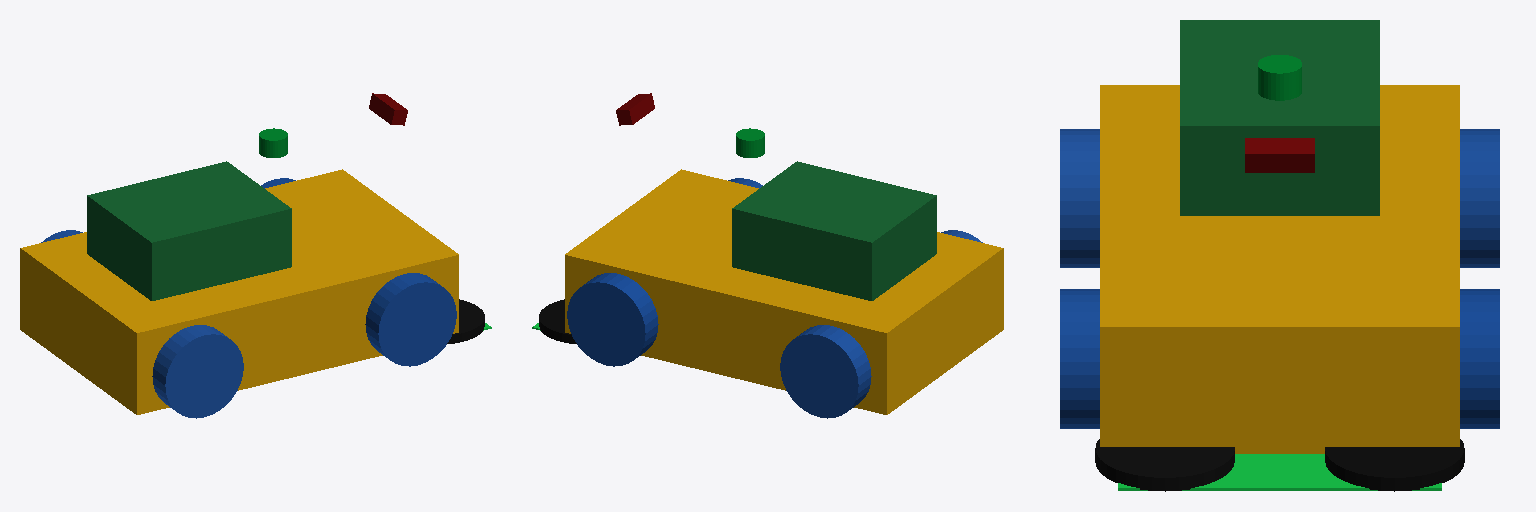
robot.urdf — sanitation_vehicle:
<?xml version="1.0" ?>
<!-- =================================================================================== -->
<!-- |    This document was autogenerated by xacro from /runtime/install/sanitation_vehicle_description/share/sanitation_vehicle_description/urdf/sanitation_vehicle.urdf.xacro | -->
<!-- |    EDITING THIS FILE BY HAND IS NOT RECOMMENDED                                 | -->
<!-- =================================================================================== -->
<robot name="sanitation_vehicle">
  <!-- Local primitive chassis avoids the upstream Gazebo-classic visual
       override colliding with URDF materials in Ogre2 / Gazebo Harmonic. -->
  <link name="base_footprint"/>
  <link name="base_link">
    <visual>
      <geometry>
        <box size="1.15 0.72 0.28"/>
      </geometry>
      <material name="sanitation_chassis_yellow">
        <color rgba="0.84 0.63 0.05 1.0"/>
      </material>
    </visual>
    <collision>
      <geometry>
        <box size="1.15 0.72 0.28"/>
      </geometry>
    </collision>
    <inertial>
      <mass value="80.0"/>
      <inertia ixx="3.978666666666667" ixy="0" ixz="0" iyy="9.339333333333332" iyz="0" izz="12.272666666666666"/>
    </inertial>
  </link>
  <joint name="base_to_footprint" type="fixed">
    <parent link="base_footprint"/>
    <child link="base_link"/>
    <origin rpy="0 0 0" xyz="0 0 0.16"/>
  </joint>
  <link name="front_left_wheel_link">
    <visual>
      <origin rpy="1.5707963267948966 0 0"/>
      <geometry>
        <cylinder length="0.08" radius="0.14"/>
      </geometry>
      <material name="front_left_wheel_material">
        <color rgba="0.12 0.32 0.62 1.0"/>
      </material>
    </visual>
    <collision>
      <origin rpy="1.5707963267948966 0 0"/>
      <geometry>
        <cylinder length="0.08" radius="0.14"/>
      </geometry>
    </collision>
    <inertial>
      <mass value="3.0"/>
      <inertia ixx="0.016300000000000002" ixy="0" ixz="0" iyy="0.029400000000000003" iyz="0" izz="0.016300000000000002"/>
    </inertial>
  </link>
  <joint name="front_left_wheel_joint" type="continuous">
    <axis xyz="0 1 0"/>
    <parent link="base_link"/>
    <child link="front_left_wheel_link"/>
    <origin rpy="0 0 0" xyz="0.38 0.4 -0.02"/>
  </joint>
  <gazebo reference="front_left_wheel_link">
    <mu1>1.0</mu1>
    <mu2>1.0</mu2>
  </gazebo>
  <link name="front_right_wheel_link">
    <visual>
      <origin rpy="1.5707963267948966 0 0"/>
      <geometry>
        <cylinder length="0.08" radius="0.14"/>
      </geometry>
      <material name="front_right_wheel_material">
        <color rgba="0.13 0.33 0.63 1.0"/>
      </material>
    </visual>
    <collision>
      <origin rpy="1.5707963267948966 0 0"/>
      <geometry>
        <cylinder length="0.08" radius="0.14"/>
      </geometry>
    </collision>
    <inertial>
      <mass value="3.0"/>
      <inertia ixx="0.016300000000000002" ixy="0" ixz="0" iyy="0.029400000000000003" iyz="0" izz="0.016300000000000002"/>
    </inertial>
  </link>
  <joint name="front_right_wheel_joint" type="continuous">
    <axis xyz="0 1 0"/>
    <parent link="base_link"/>
    <child link="front_right_wheel_link"/>
    <origin rpy="0 0 0" xyz="0.38 -0.4 -0.02"/>
  </joint>
  <gazebo reference="front_right_wheel_link">
    <mu1>1.0</mu1>
    <mu2>1.0</mu2>
  </gazebo>
  <link name="rear_left_wheel_link">
    <visual>
      <origin rpy="1.5707963267948966 0 0"/>
      <geometry>
        <cylinder length="0.08" radius="0.14"/>
      </geometry>
      <material name="rear_left_wheel_material">
        <color rgba="0.14 0.34 0.64 1.0"/>
      </material>
    </visual>
    <collision>
      <origin rpy="1.5707963267948966 0 0"/>
      <geometry>
        <cylinder length="0.08" radius="0.14"/>
      </geometry>
    </collision>
    <inertial>
      <mass value="3.0"/>
      <inertia ixx="0.016300000000000002" ixy="0" ixz="0" iyy="0.029400000000000003" iyz="0" izz="0.016300000000000002"/>
    </inertial>
  </link>
  <joint name="rear_left_wheel_joint" type="continuous">
    <axis xyz="0 1 0"/>
    <parent link="base_link"/>
    <child link="rear_left_wheel_link"/>
    <origin rpy="0 0 0" xyz="-0.38 0.4 -0.02"/>
  </joint>
  <gazebo reference="rear_left_wheel_link">
    <mu1>1.0</mu1>
    <mu2>1.0</mu2>
  </gazebo>
  <link name="rear_right_wheel_link">
    <visual>
      <origin rpy="1.5707963267948966 0 0"/>
      <geometry>
        <cylinder length="0.08" radius="0.14"/>
      </geometry>
      <material name="rear_right_wheel_material">
        <color rgba="0.15 0.35 0.65 1.0"/>
      </material>
    </visual>
    <collision>
      <origin rpy="1.5707963267948966 0 0"/>
      <geometry>
        <cylinder length="0.08" radius="0.14"/>
      </geometry>
    </collision>
    <inertial>
      <mass value="3.0"/>
      <inertia ixx="0.016300000000000002" ixy="0" ixz="0" iyy="0.029400000000000003" iyz="0" izz="0.016300000000000002"/>
    </inertial>
  </link>
  <joint name="rear_right_wheel_joint" type="continuous">
    <axis xyz="0 1 0"/>
    <parent link="base_link"/>
    <child link="rear_right_wheel_link"/>
    <origin rpy="0 0 0" xyz="-0.38 -0.4 -0.02"/>
  </joint>
  <gazebo reference="rear_right_wheel_link">
    <mu1>1.0</mu1>
    <mu2>1.0</mu2>
  </gazebo>
  <link name="imu_link"/>
  <joint name="imu_to_base_link" type="fixed">
    <parent link="base_link"/>
    <child link="imu_link"/>
    <origin rpy="0 0 0" xyz="0 0 0"/>
  </joint>
  <gazebo>
    <plugin filename="gz-sim-imu-system" name="gz::sim::systems::Imu">
      </plugin>
  </gazebo>
  <gazebo reference="imu_link">
    <sensor name="imu_sensor" type="imu">
      <topic>imu/data</topic>
      <update_rate>50</update_rate>
      <always_on>true</always_on>
      <visualize>true</visualize>
    </sensor>
  </gazebo>
  <link name="laser">
    <visual>
      <geometry>
        <cylinder length="0.06" radius="0.045"/>
      </geometry>
      <material name="sanitation_lidar_green">
        <color rgba="0.02 0.55 0.20 1.0"/>
      </material>
    </visual>
    <collision>
      <geometry>
        <cylinder length="0.06" radius="0.045"/>
      </geometry>
    </collision>
    <inertial>
      <mass value="0.1"/>
      <inertia ixx="0.00006" ixy="0" ixz="0" iyy="0.00006" iyz="0" izz="0.00010"/>
    </inertial>
  </link>
  <joint name="laser_to_base_link" type="fixed">
    <parent link="base_link"/>
    <child link="laser"/>
    <origin rpy="0 0 0" xyz="0.12 0 0.48"/>
  </joint>
  <gazebo reference="laser">
    <sensor name="sanitation_gpu_lidar" type="gpu_lidar">
      <topic>scan</topic>
      <update_rate>10</update_rate>
      <always_on>true</always_on>
      <visualize>true</visualize>
      <lidar>
        <scan>
          <horizontal>
            <samples>360</samples>
            <resolution>1</resolution>
            <min_angle>-3.1416</min_angle>
            <max_angle>3.1416</max_angle>
          </horizontal>
          <vertical>
            <samples>1</samples>
            <resolution>1</resolution>
            <min_angle>0.0</min_angle>
            <max_angle>0.0</max_angle>
          </vertical>
        </scan>
        <range>
          <min>0.08</min>
          <max>12.0</max>
          <resolution>0.01</resolution>
        </range>
      </lidar>
    </sensor>
  </gazebo>
  <link name="camera_link">
    <visual>
      <geometry>
        <box size="0.05 0.14 0.05"/>
      </geometry>
      <material name="sanitation_camera_red">
        <color rgba="0.45 0.05 0.05 1.0"/>
      </material>
    </visual>
    <collision>
      <geometry>
        <box size="0.05 0.14 0.05"/>
      </geometry>
    </collision>
    <inertial>
      <mass value="0.135"/>
      <inertia ixx="0.00025" ixy="0" ixz="0" iyy="0.00006" iyz="0" izz="0.00025"/>
    </inertial>
  </link>
  <joint name="camera_to_base_link" type="fixed">
    <parent link="base_link"/>
    <child link="camera_link"/>
    <origin rpy="0 .2617993878 0" xyz=".53 0.0 .50"/>
  </joint>
  <link name="camera_depth_link"/>
  <joint name="camera_depth_joint" type="fixed">
    <parent link="camera_link"/>
    <child link="camera_depth_link"/>
    <origin rpy="0 0 0" xyz="0 0 0"/>
  </joint>
  <gazebo reference="camera_link">
    <sensor name="sanitation_rgbd_camera" type="rgbd_camera">
      <topic>camera</topic>
      <update_rate>15</update_rate>
      <always_on>true</always_on>
      <visualize>true</visualize>
      <camera>
        <optical_frame_id>camera_depth_link</optical_frame_id>
        <horizontal_fov>1.50098</horizontal_fov>
        <image>
          <width>640</width>
          <height>480</height>
          <format>R8G8B8</format>
        </image>
        <clip>
          <near>0.3</near>
          <far>100</far>
        </clip>
      </camera>
    </sensor>
    <sensor name="g2_semantic_gt" type="segmentation">
      <topic>g2/semantic_gt</topic>
      <gz_frame_id>camera_depth_link</gz_frame_id>
      <update_rate>15</update_rate>
      <always_on>true</always_on>
      <camera>
        <segmentation_type>semantic</segmentation_type>
        <optical_frame_id>camera_depth_link</optical_frame_id>
        <horizontal_fov>1.50098</horizontal_fov>
        <image>
          <width>640</width>
          <height>480</height>
          <format>R8G8B8</format>
        </image>
        <clip>
          <near>0.3</near>
          <far>100</far>
        </clip>
      </camera>
    </sensor>
    <sensor name="g2_instance_gt" type="segmentation">
      <topic>g2/instance_gt</topic>
      <gz_frame_id>camera_depth_link</gz_frame_id>
      <update_rate>15</update_rate>
      <always_on>true</always_on>
      <camera>
        <segmentation_type>instance</segmentation_type>
        <optical_frame_id>camera_depth_link</optical_frame_id>
        <horizontal_fov>1.50098</horizontal_fov>
        <image>
          <width>640</width>
          <height>480</height>
          <format>R8G8B8</format>
        </image>
        <clip>
          <near>0.3</near>
          <far>100</far>
        </clip>
      </camera>
    </sensor>
  </gazebo>
  <gazebo>
    <plugin filename="gz-sim-diff-drive-system" name="gz::sim::systems::DiffDrive">
      <topic>cmd_vel</topic>
      <!-- <frame_id>odom</frame_id> -->
      <child_frame_id>base_footprint</child_frame_id>
      <odom_topic>odom/unfiltered</odom_topic>
      <!-- <tf_topic>/tf</tf_topic> -->
      <left_joint>front_left_wheel_joint</left_joint>
      <right_joint>front_right_wheel_joint</right_joint>
      <left_joint>rear_left_wheel_joint</left_joint>
      <right_joint>rear_right_wheel_joint</right_joint>
      <wheel_separation>0.8</wheel_separation>
      <wheel_radius>0.14</wheel_radius>
      <odom_publish_frequency>50</odom_publish_frequency>
    </plugin>
  </gazebo>
  <gazebo>
    <plugin filename="gz-sim-joint-state-publisher-system" name="gz::sim::systems::JointStatePublisher">
      <topic>joint_states</topic>
      <update_rate>50</update_rate>
      <joint_name>front_left_wheel_joint</joint_name>
      <joint_name>front_right_wheel_joint</joint_name>
      <joint_name>rear_left_wheel_joint</joint_name>
      <joint_name>rear_right_wheel_joint</joint_name>
    </plugin>
  </gazebo>
  <!-- Model-scoped Gazebo truth. Unlike the world Pose_V bridge, this topic
       has one producer bound to this model and preserves an explicit frame
       identity all the way into ROS. It is evaluation-only and must never be
       fused into the realistic odometry / localization lane. -->
  <gazebo>
    <plugin filename="gz-sim-odometry-publisher-system" name="gz::sim::systems::OdometryPublisher">
      <odom_publish_frequency>50</odom_publish_frequency>
      <odom_topic>/ground_truth/model_odom_raw</odom_topic>
      <odom_frame>world</odom_frame>
      <robot_base_frame>sanitation_vehicle/base_footprint</robot_base_frame>
      <dimensions>2</dimensions>
    </plugin>
  </gazebo>
  <gazebo>
    <plugin filename="gz-sim-label-system" name="gz::sim::systems::Label">
      <label>250</label>
    </plugin>
  </gazebo>
  <!-- 40 L bin: 0.50 * 0.40 * 0.20 = 0.040 m^3. -->
  <link name="dust_bin_link">
    <visual>
      <origin xyz="0 0 0"/>
      <geometry>
        <box size="0.50 0.40 0.20"/>
      </geometry>
      <material name="bin_green">
        <color rgba="0.12 0.42 0.22 1.0"/>
      </material>
    </visual>
    <collision>
      <origin xyz="0 0 0"/>
      <geometry>
        <box size="0.50 0.40 0.20"/>
      </geometry>
    </collision>
    <inertial>
      <mass value="8.0"/>
      <inertia ixx="0.133" ixy="0" ixz="0" iyy="0.193" iyz="0" izz="0.273"/>
    </inertial>
  </link>
  <joint name="dust_bin_joint" type="fixed">
    <parent link="base_link"/>
    <child link="dust_bin_link"/>
    <origin rpy="0 0 0" xyz="-0.18 0 0.25"/>
  </joint>
  <!-- Side brushes are fixed visual/collision placeholders in Stage 2.
       Codex should add controllable joints/cleaning semantics later. -->
  <link name="left_brush_link">
    <visual>
      <geometry>
        <cylinder length="0.03" radius="0.14"/>
      </geometry>
      <material name="left_brush_dark">
        <color rgba="0.08 0.08 0.08 1.0"/>
      </material>
    </visual>
    <collision>
      <geometry>
        <cylinder length="0.03" radius="0.14"/>
      </geometry>
    </collision>
    <inertial>
      <mass value="1.0"/>
      <inertia ixx="0.00495" ixy="0" ixz="0" iyy="0.00495" iyz="0" izz="0.0098"/>
    </inertial>
  </link>
  <joint name="left_brush_joint" type="fixed">
    <parent link="base_link"/>
    <child link="left_brush_link"/>
    <origin rpy="0 0 0" xyz="0.58 0.23 -0.14"/>
  </joint>
  <link name="right_brush_link">
    <visual>
      <geometry>
        <cylinder length="0.03" radius="0.14"/>
      </geometry>
      <material name="right_brush_dark">
        <color rgba="0.09 0.09 0.09 1.0"/>
      </material>
    </visual>
    <collision>
      <geometry>
        <cylinder length="0.03" radius="0.14"/>
      </geometry>
    </collision>
    <inertial>
      <mass value="1.0"/>
      <inertia ixx="0.00495" ixy="0" ixz="0" iyy="0.00495" iyz="0" izz="0.0098"/>
    </inertial>
  </link>
  <joint name="right_brush_joint" type="fixed">
    <parent link="base_link"/>
    <child link="right_brush_link"/>
    <origin rpy="0 0 0" xyz="0.58 -0.23 -0.14"/>
  </joint>
  <!-- Non-colliding visualization of the nominal cleaning footprint. -->
  <link name="cleaning_footprint_link">
    <visual>
      <origin xyz="0 0 0"/>
      <geometry>
        <box size="0.32 0.65 0.005"/>
      </geometry>
      <material name="cleaning_zone">
        <color rgba="0.1 0.8 0.3 0.18"/>
      </material>
    </visual>
  </link>
  <joint name="cleaning_footprint_joint" type="fixed">
    <parent link="base_link"/>
    <child link="cleaning_footprint_link"/>
    <origin rpy="0 0 0" xyz="0.55 0 -0.155"/>
  </joint>
  <!-- Mounting point reserved for a future manipulator. -->
  <link name="arm_mount_link"/>
  <joint name="arm_mount_joint" type="fixed">
    <parent link="base_link"/>
    <child link="arm_mount_link"/>
    <origin rpy="0 0 0" xyz="0.10 0 0.32"/>
  </joint>
</robot>

--- Render facts (derived) ---
3 views of the same robot in one strip: view 1: azimuth 30°, elevation 25°; view 2: azimuth 150°, elevation 25°; view 3: azimuth 270°, elevation 25° (orthographic).
Model sanitation_vehicle with 15 links and 14 joints (4 continuous, 10 fixed), rooted at base_footprint, posed all joints at 0.
Visible links, largest first — view 1: base_link, dust_bin_link, front_right_wheel_link, rear_right_wheel_link, right_brush_link, camera_link, laser; view 2: base_link, dust_bin_link, front_left_wheel_link, rear_left_wheel_link, left_brush_link, camera_link, laser; view 3: base_link, dust_bin_link, front_left_wheel_link, front_right_wheel_link, rear_left_wheel_link, rear_right_wheel_link, left_brush_link, right_brush_link, cleaning_footprint_link, camera_link, laser.
Boxes of the visible links, x1=… form: base_link: x1=20, y1=169, x2=458, y2=414; dust_bin_link: x1=87, y1=161, x2=291, y2=300; front_right_wheel_link: x1=365, y1=273, x2=456, y2=366; rear_right_wheel_link: x1=152, y1=325, x2=243, y2=418; right_brush_link: x1=447, y1=299, x2=484, y2=343; camera_link: x1=369, y1=93, x2=407, y2=125; laser: x1=259, y1=128, x2=287, y2=157; base_link: x1=565, y1=169, x2=1003, y2=414; dust_bin_link: x1=732, y1=161, x2=936, y2=300; front_left_wheel_link: x1=567, y1=273, x2=658, y2=366; rear_left_wheel_link: x1=780, y1=325, x2=871, y2=418; left_brush_link: x1=539, y1=299, x2=576, y2=343; camera_link: x1=616, y1=93, x2=654, y2=125; laser: x1=736, y1=128, x2=764, y2=157; base_link: x1=1100, y1=85, x2=1459, y2=453; dust_bin_link: x1=1180, y1=20, x2=1379, y2=215; front_left_wheel_link: x1=1460, y1=289, x2=1499, y2=428; front_right_wheel_link: x1=1060, y1=289, x2=1099, y2=428; rear_left_wheel_link: x1=1460, y1=129, x2=1499, y2=267; rear_right_wheel_link: x1=1060, y1=129, x2=1099, y2=267; left_brush_link: x1=1325, y1=439, x2=1464, y2=491; right_brush_link: x1=1095, y1=439, x2=1234, y2=491; cleaning_footprint_link: x1=1118, y1=454, x2=1441, y2=490; camera_link: x1=1245, y1=138, x2=1314, y2=172; laser: x1=1258, y1=55, x2=1301, y2=100.
Size in the robot's own frame: 1.29 by 0.88 by 0.6906 metres.
Geometry: primitives only (box / cylinder / sphere), no mesh files.
